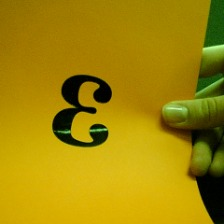orange3: (48, 72, 115, 153)
